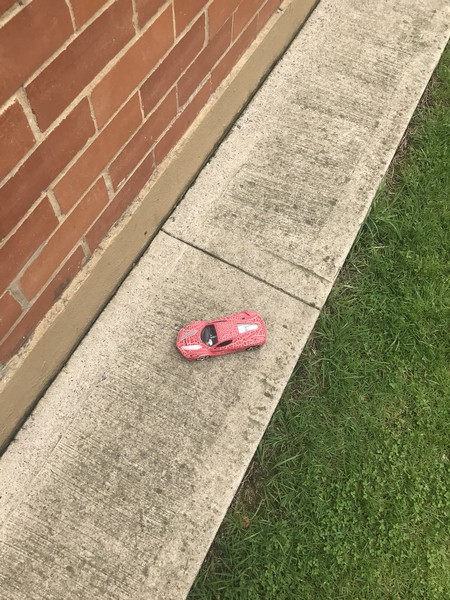RC: (175, 310, 267, 360)
